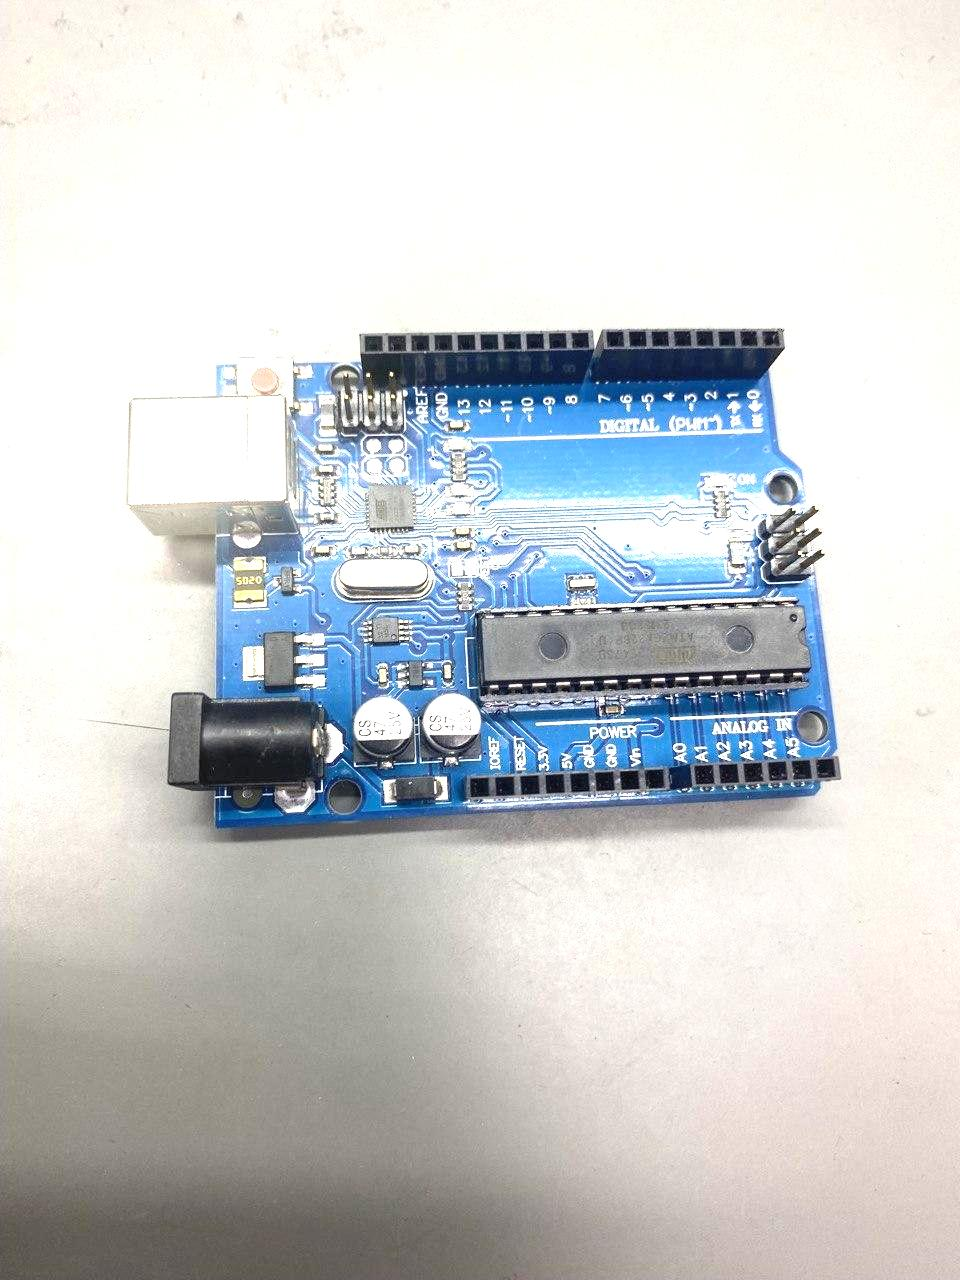ATmega328 chip: (474, 597, 812, 703)
Arduino board: (126, 329, 841, 829)
USB: (126, 395, 299, 536)
capacitor: (353, 696, 413, 757), (422, 693, 481, 754)
pins: (360, 330, 594, 388), (590, 329, 785, 383), (465, 766, 670, 800), (670, 756, 841, 790)
resistor: (319, 477, 337, 507), (451, 452, 467, 481), (458, 582, 474, 611), (714, 489, 730, 518)
